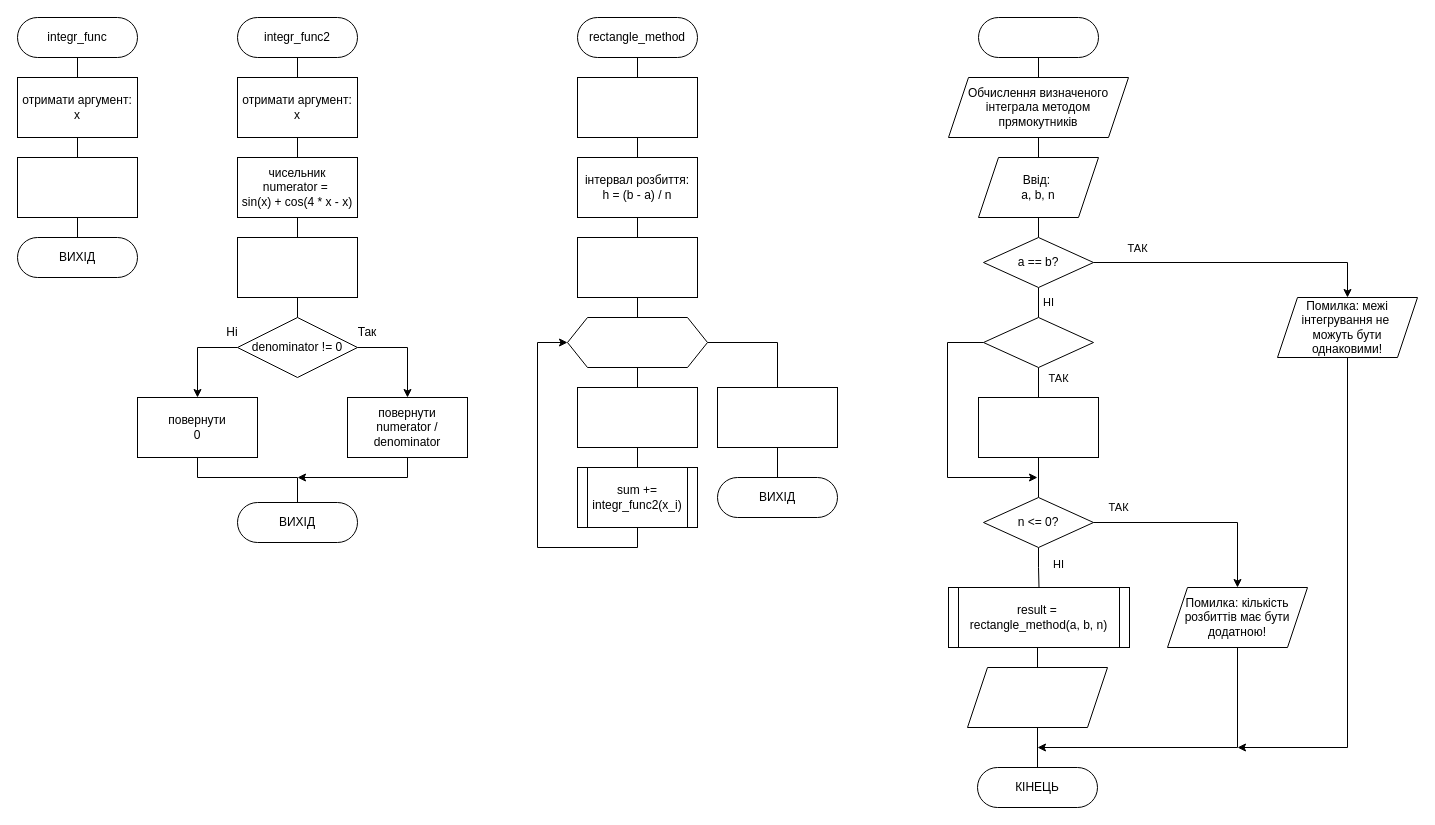
The diagram is 1435 pixels wide and 825 high, and some of its shapes have lost their labels. The box of each missing label's shape, as (x1, y1, x2, y2) in pixels:
a > b?: (982, 316, 1094, 368)
a ⇄ b: (978, 396, 1098, 458)
Вивід: значення інтегралу result: (966, 666, 1108, 728)
знаменник denominator = cos(x) - sin(4 * x - x): (236, 236, 358, 298)
отримати аргументи: a, b, n: (576, 76, 698, 138)
повернути sum * h: (716, 386, 838, 448)
повернути: sin(x) + x * x: (16, 156, 138, 218)
ПОЧАТОК: (978, 16, 1098, 58)
Середина підінтервалу: x_i = a + h * (i + 0.5): (576, 386, 698, 448)
сума значень функції: sum = 0.0: (576, 236, 698, 298)
Цикл обчислення суми: для i від 0 до n: (566, 316, 708, 368)
